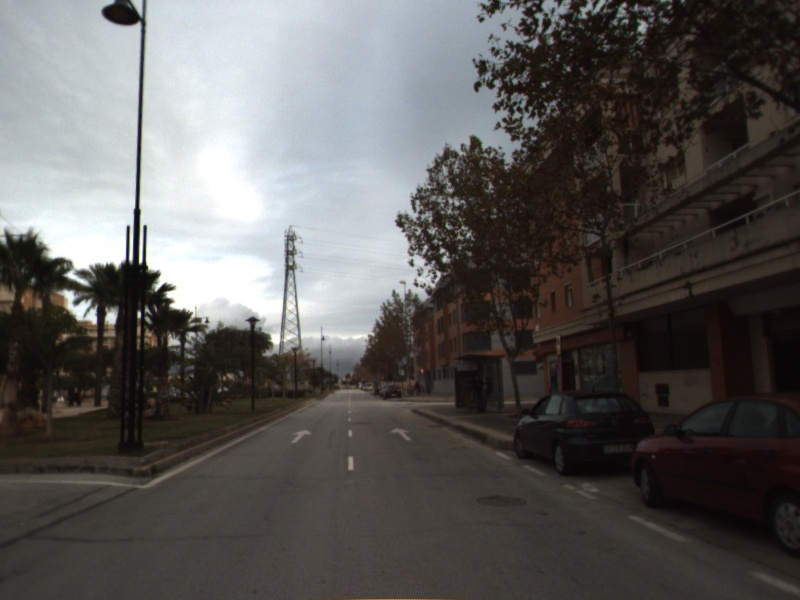STRAIGHT: (288, 427, 315, 445), (388, 425, 414, 442)
